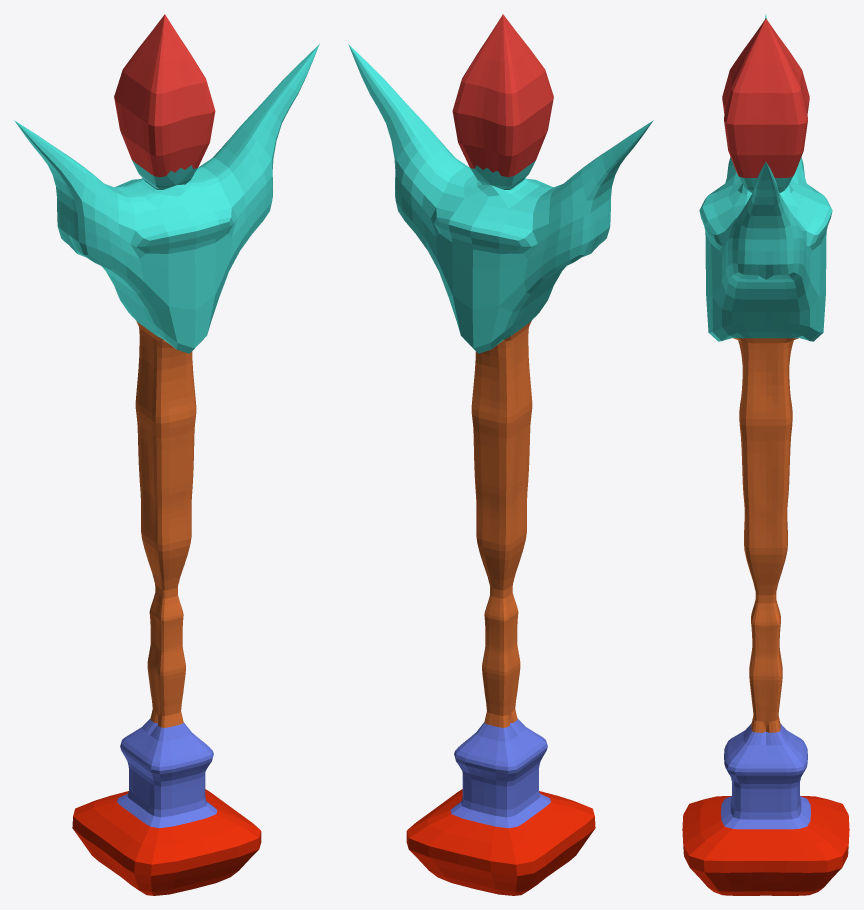
The model's file is (FIX) Senjata Mage Jahat.fbx.
3 renders of one model, left to right at view 1: azimuth 30°, elevation 25°; view 2: azimuth 150°, elevation 25°; view 3: azimuth 270°, elevation 25°, orthographic.
Visible parts, largest first — view 1: senjata; view 2: senjata; view 3: senjata.
Boxes of the visible parts, x1,y1,x2,y2 form: senjata: (14, 14, 319, 895); senjata: (348, 14, 653, 895); senjata: (682, 15, 849, 895).
Size of the model in its own units: 145 by 389 by 68.45.
